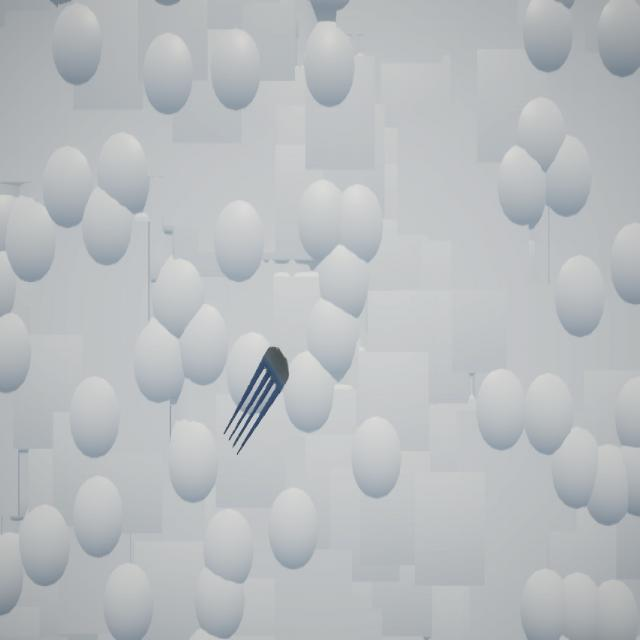top_folk: (224, 347, 290, 456)
